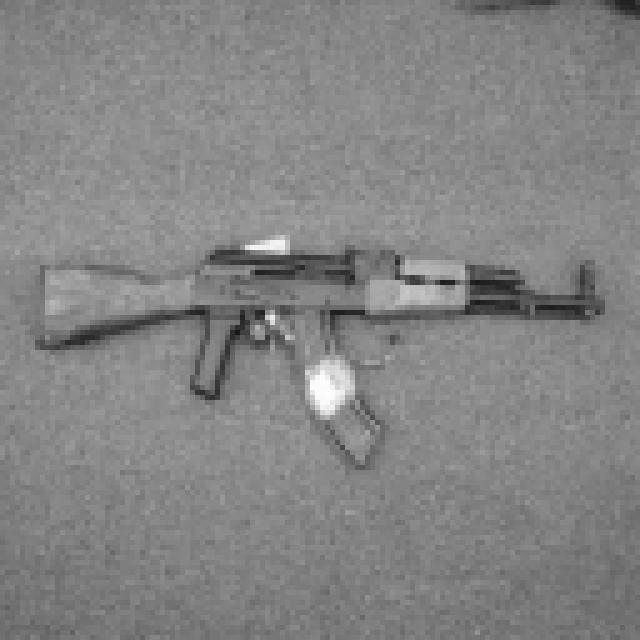Rifle: (6, 202, 640, 496)
